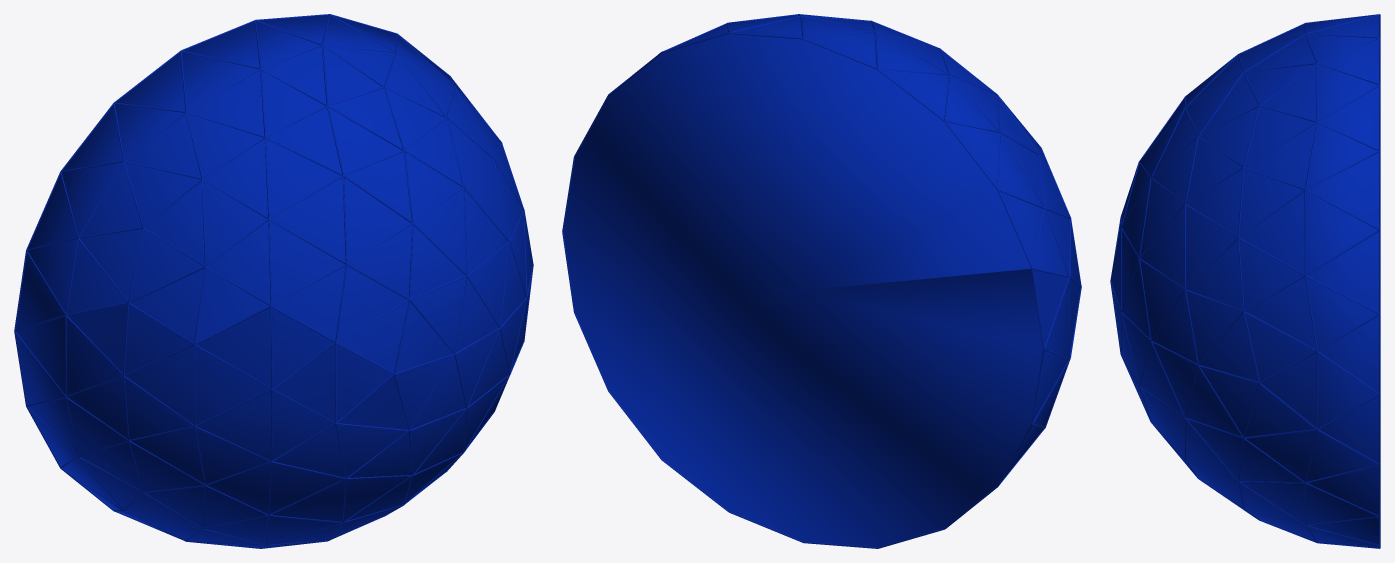
The model's file is armor_sphere.fbx.
3 views of the same model, side by side, from view 1: azimuth 30°, elevation 25°; view 2: azimuth 150°, elevation 25°; view 3: azimuth 270°, elevation 25° (orthographic). The views are drawn at different scales.
Visible parts, largest first — view 1: Armor_Sphere, Armor_Lattice; view 2: Armor_Sphere, Armor_Lattice; view 3: Armor_Sphere, Armor_Lattice.
Boxes of the visible parts, <box> form: Armor_Sphere: <box>15,15,532,547</box>; Armor_Lattice: <box>14,14,533,548</box>; Armor_Sphere: <box>563,15,1080,547</box>; Armor_Lattice: <box>562,14,1081,548</box>; Armor_Sphere: <box>1111,15,1378,547</box>; Armor_Lattice: <box>1110,14,1380,548</box>.
Bounding box in the file's own units: 161 × 161 × 80.58.
Materials: 1 (1 with a texture image).
